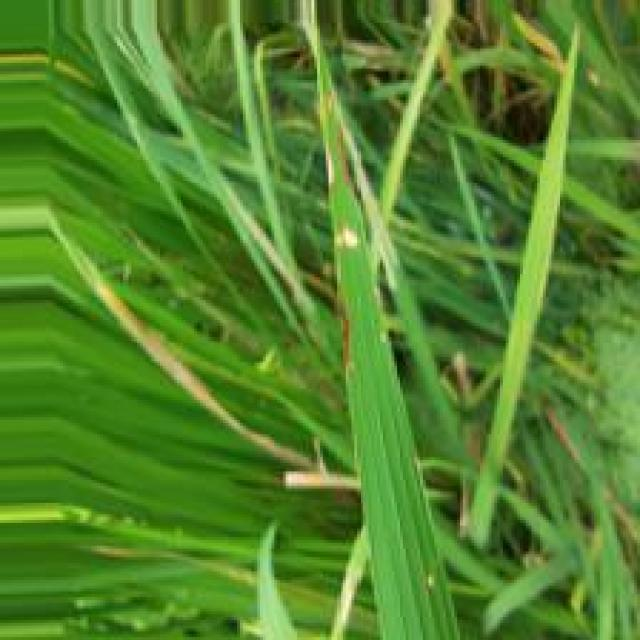Brown_Spot: (338, 292, 353, 370)
